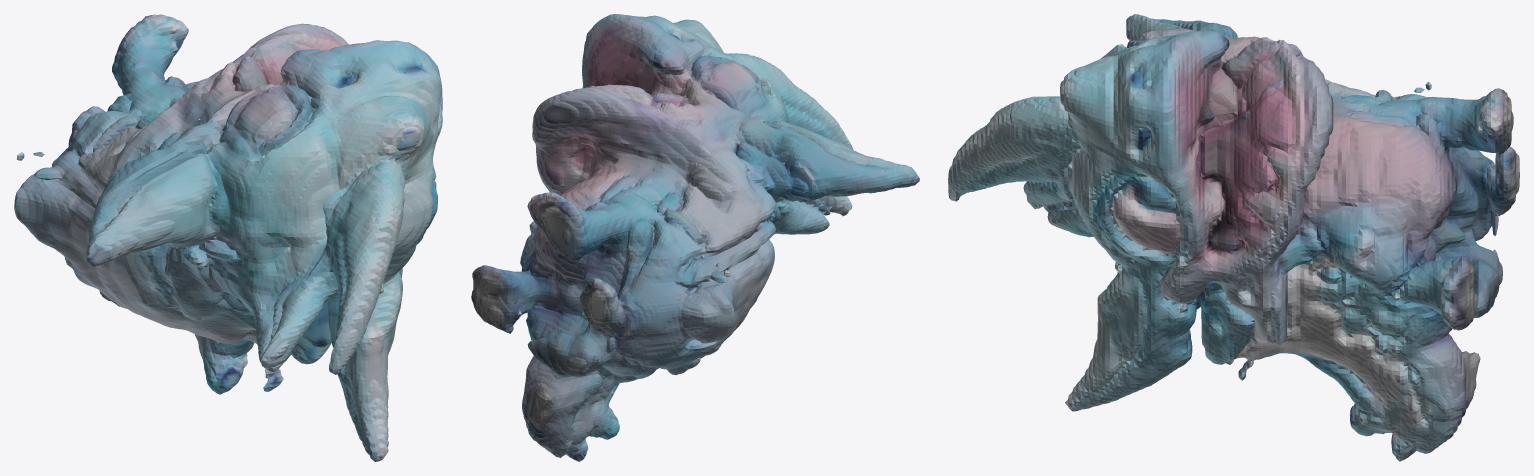
The model's file is triposr_mesh.glb.
The picture shows the model from 3 angles, left to right: view 1: azimuth 30°, elevation 25°; view 2: azimuth 150°, elevation 25°; view 3: azimuth 270°, elevation 25°; orthographic projection. The views are drawn at different scales.
Parts seen in each view (by area): view 1: geometry_0; view 2: geometry_0; view 3: geometry_0.
Part boxes in pixels (<box>): geometry_0: <box>14,14,442,461</box>; geometry_0: <box>471,14,919,461</box>; geometry_0: <box>948,14,1519,461</box>.
Size of the model in its own units: 0.7273 by 0.7918 by 0.9408.
